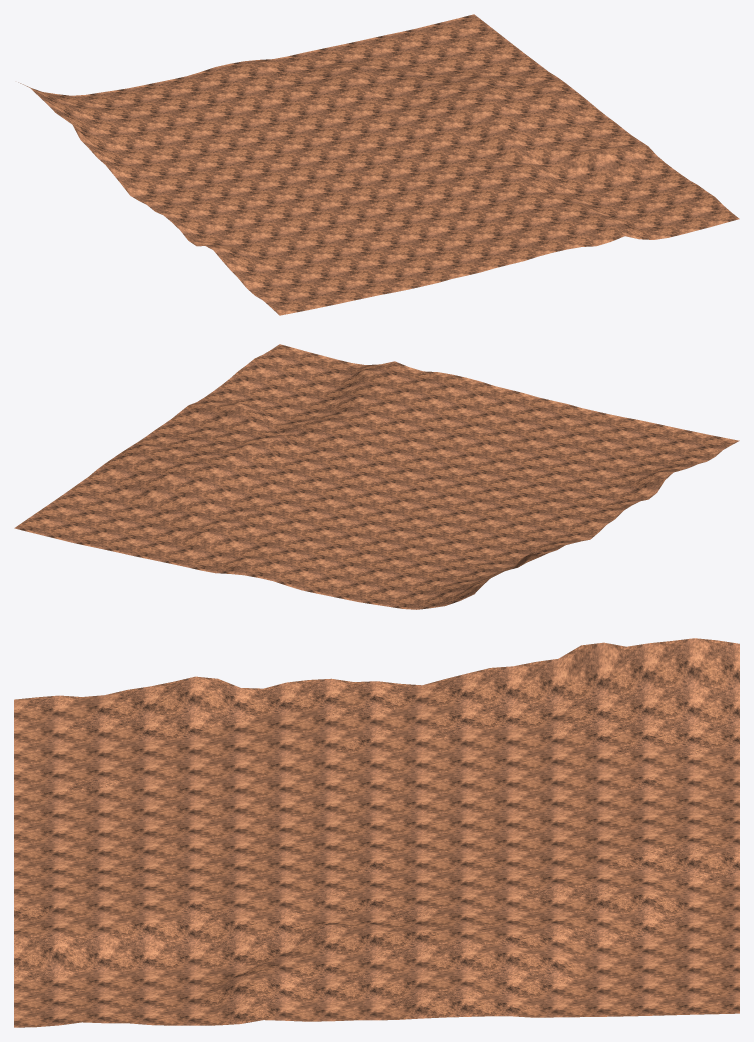
File: terrain_06_14.dae
3 renders of one model, top to bottom at view 1: azimuth 30°, elevation 25°; view 2: azimuth 150°, elevation 25°; view 3: azimuth 270°, elevation 25°, orthographic. The views are drawn at different scales.
Parts seen in each view (by area): view 1: terrain_06_14-node; view 2: terrain_06_14-node; view 3: terrain_06_14-node.
Part boxes in pixels (left/top/right/bottom): terrain_06_14-node: left=18, top=14, right=739, bottom=315; terrain_06_14-node: left=14, top=344, right=739, bottom=609; terrain_06_14-node: left=14, top=638, right=739, bottom=1027.
Size of the model in its own units: 128 by 128 by 16.47.
1 material, 1 textured.
